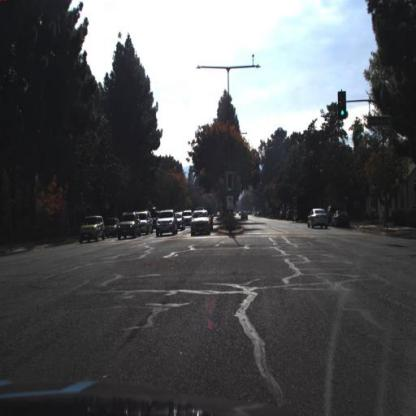car: (78, 213, 108, 245), (154, 208, 181, 237), (118, 213, 143, 242), (306, 205, 331, 233), (191, 210, 213, 238), (142, 211, 155, 237), (107, 215, 119, 241), (178, 211, 187, 235), (241, 207, 250, 222)
trafficLight-Green: (339, 92, 348, 119)
trafficLight-GreenLeft: (225, 170, 236, 198), (228, 177, 233, 195)
